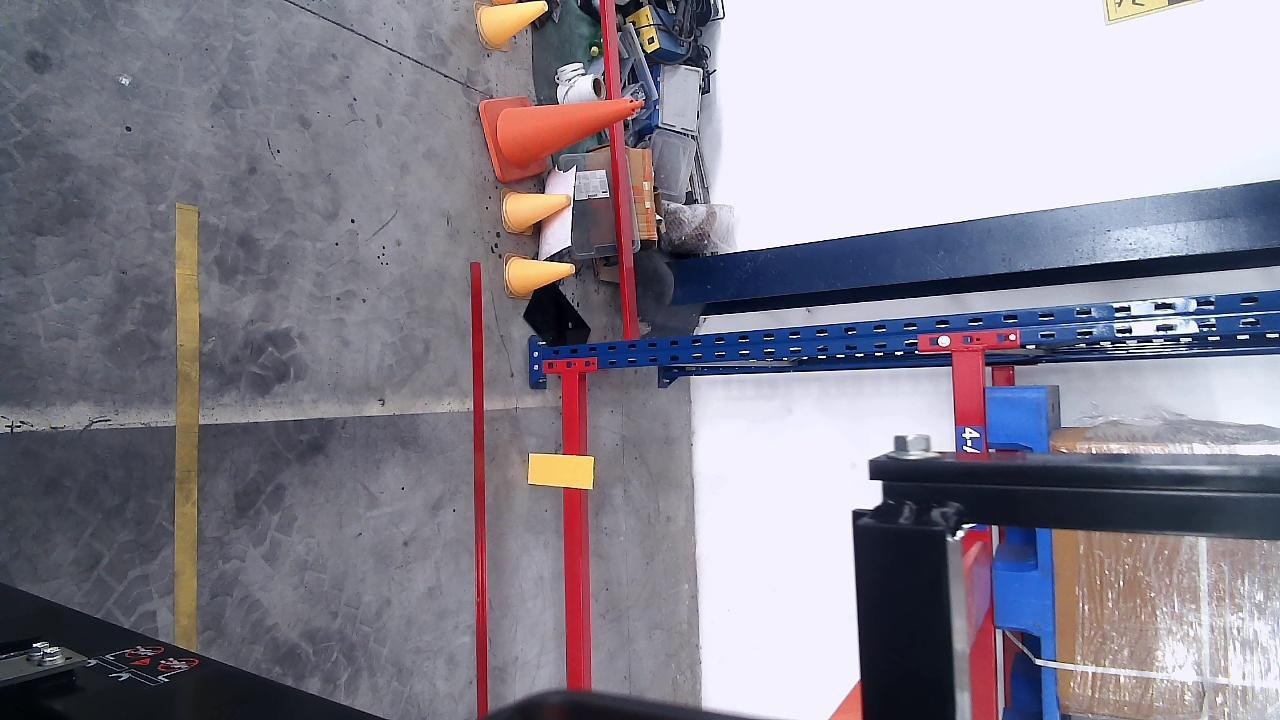h_rack: (951, 348, 1000, 720), (558, 372, 587, 688)
orange_strip: (529, 455, 593, 487)
red_line: (470, 261, 487, 716)
small_pallet: (986, 389, 1063, 720)
yellow_line: (175, 204, 199, 653)
